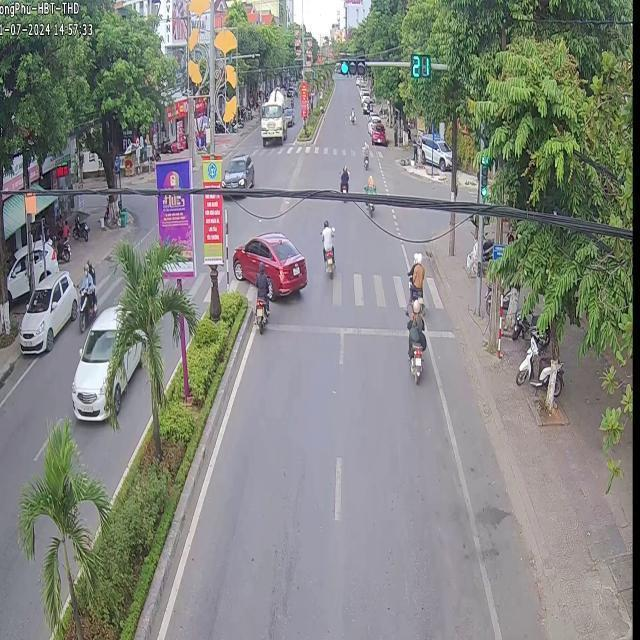car: (69, 305, 117, 418), (230, 231, 306, 298), (112, 340, 139, 411), (223, 154, 249, 187)
green_light: (411, 53, 429, 76), (339, 58, 364, 74), (480, 154, 487, 197)
motobike: (406, 298, 424, 382), (253, 262, 269, 331), (407, 251, 423, 302), (319, 218, 333, 276), (338, 165, 347, 191), (363, 174, 374, 194), (365, 200, 373, 216)
stop_line: (267, 322, 404, 341)
